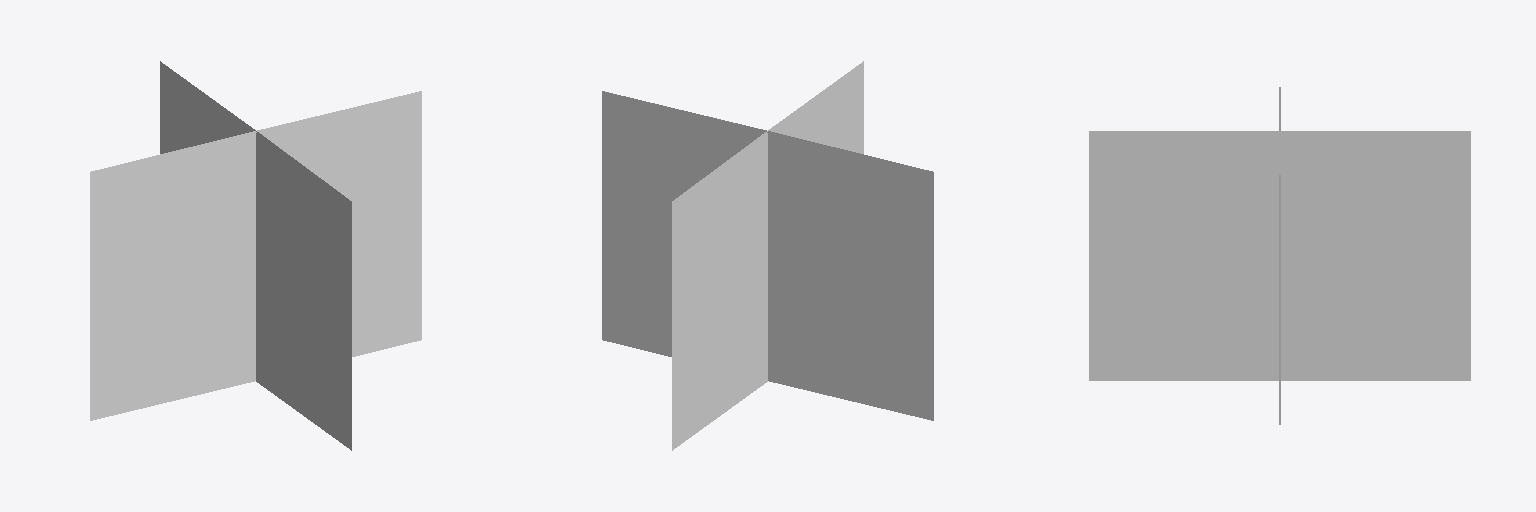
Rendered from Amazon_Sword_Plant_Fan_0.obj.
The picture shows the model from 3 angles: view 1: azimuth 30°, elevation 25°; view 2: azimuth 150°, elevation 25°; view 3: azimuth 270°, elevation 25°; orthographic projection.
Visible parts, largest first — view 1: CreateFan; view 2: CreateFan; view 3: CreateFan.
Boxes of the visible parts, x1,y1,x2,y2 form: CreateFan: [90, 61, 421, 450]; CreateFan: [602, 61, 933, 450]; CreateFan: [1089, 87, 1470, 424].
Size of the model in its own units: 1.39 by 1 by 1.39.